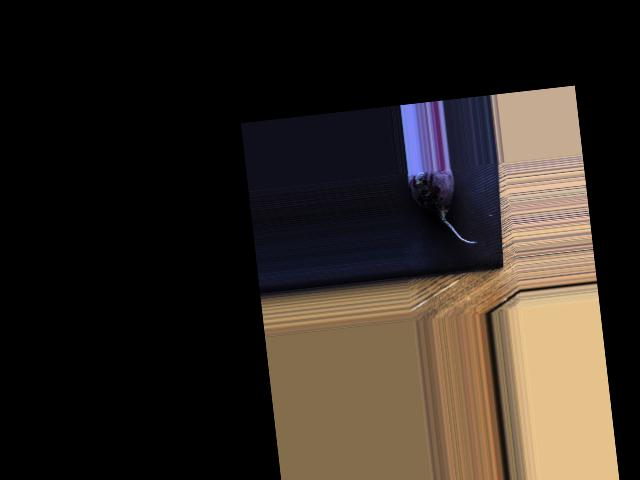beet: (406, 166, 476, 250)
